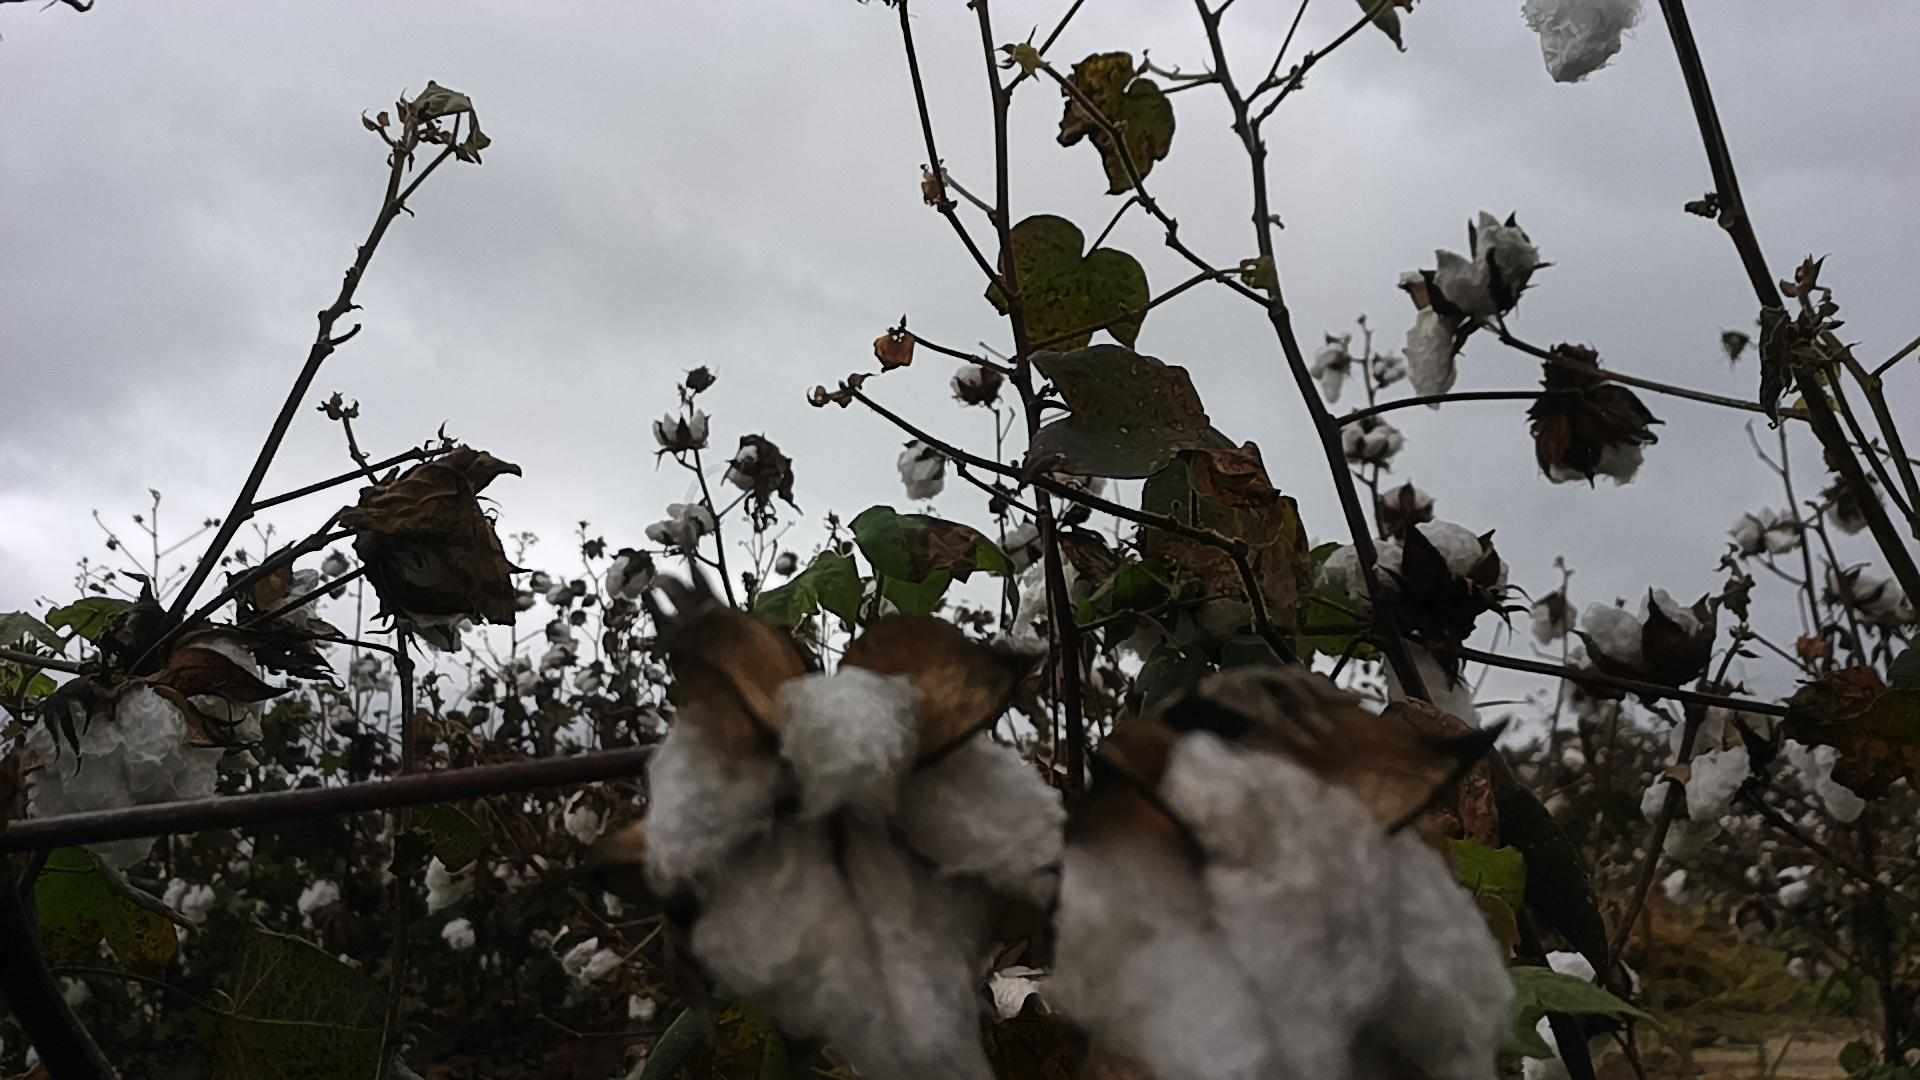cotton_ready: (646, 666, 1068, 1080), (1048, 736, 1530, 1080), (22, 638, 262, 870), (1402, 208, 1543, 415), (1317, 516, 1510, 612), (1534, 382, 1658, 485), (1573, 593, 1716, 682), (1515, 0, 1646, 86), (1688, 745, 1751, 819)
